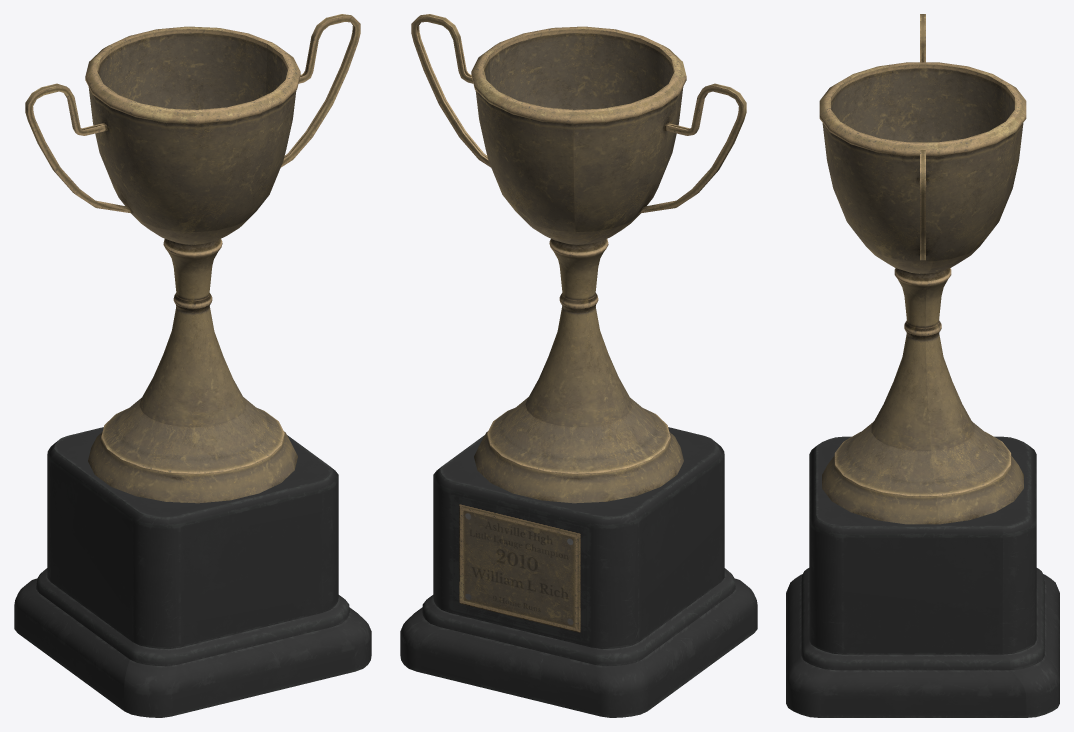
The model's file is SM_Trophy.fbx.
The picture shows the model from 3 angles, left to right: view 1: azimuth 30°, elevation 25°; view 2: azimuth 150°, elevation 25°; view 3: azimuth 270°, elevation 25°; orthographic projection. The views are drawn at different scales.
Parts seen in each view (by area): view 1: SM_Trophy_LOD0; view 2: SM_Trophy_LOD0; view 3: SM_Trophy_LOD0.
Boxes of the visible parts, bbox=[...] form: SM_Trophy_LOD0: bbox=[14, 14, 371, 717]; SM_Trophy_LOD0: bbox=[400, 14, 757, 717]; SM_Trophy_LOD0: bbox=[786, 14, 1059, 717].
Size of the model in its own units: 31.47 by 23.11 by 53.46.
Materials: 1 (1 with a texture image).
